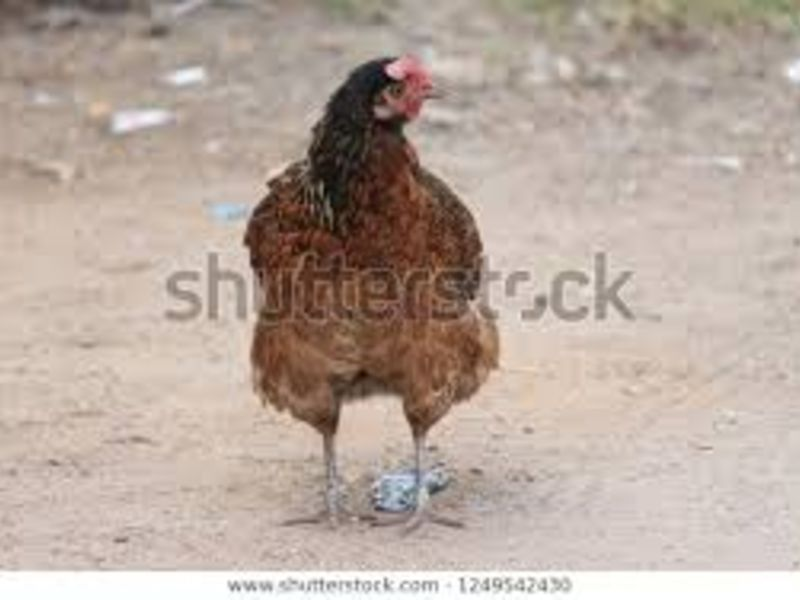hen: (238, 35, 502, 550)
